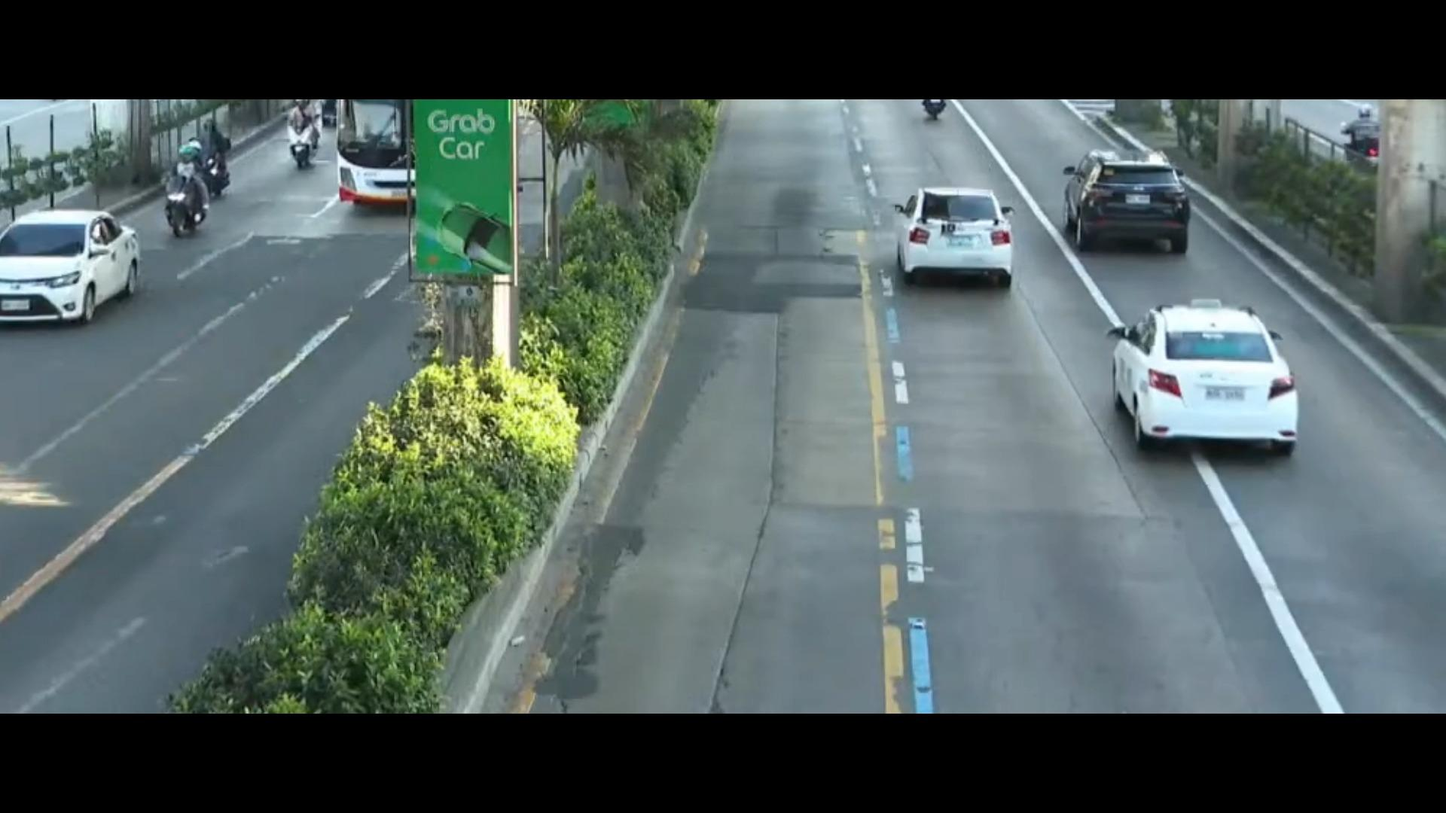Bus: (304, 101, 407, 224)
Motorcycle: (268, 86, 334, 177), (161, 146, 224, 238), (196, 108, 257, 190)
SUV: (1048, 103, 1218, 266)
Sedan: (1090, 307, 1313, 464), (0, 194, 156, 342), (883, 184, 1017, 308)
